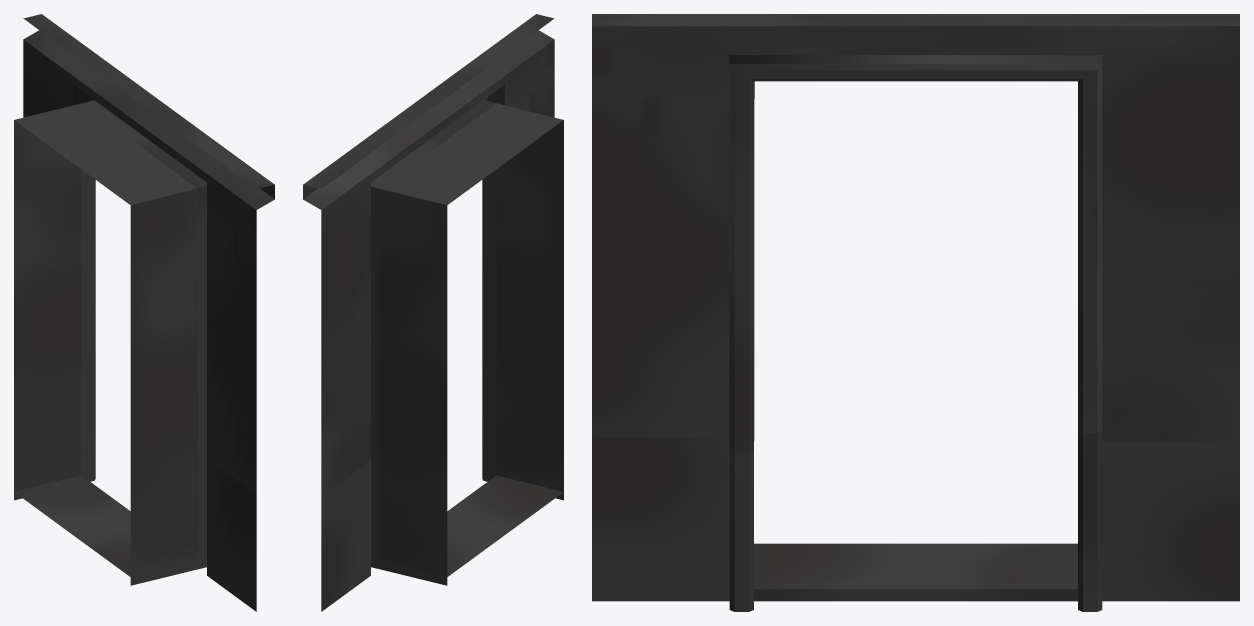
The model's file is SM_DoorWframe.fbx.
The picture shows the model from 3 angles, left to right: view 1: azimuth 30°, elevation 25°; view 2: azimuth 150°, elevation 25°; view 3: azimuth 270°, elevation 25°; orthographic projection. The views are drawn at different scales.
Visible parts, largest first — view 1: DoorFrame; view 2: DoorFrame; view 3: DoorFrame.
Part boxes in pixels (bbox=[...]): DoorFrame: bbox=[14, 14, 274, 611]; DoorFrame: bbox=[303, 14, 563, 611]; DoorFrame: bbox=[592, 14, 1239, 611].
Bounding box in the file's own units: 63.91 × 300 × 300.
